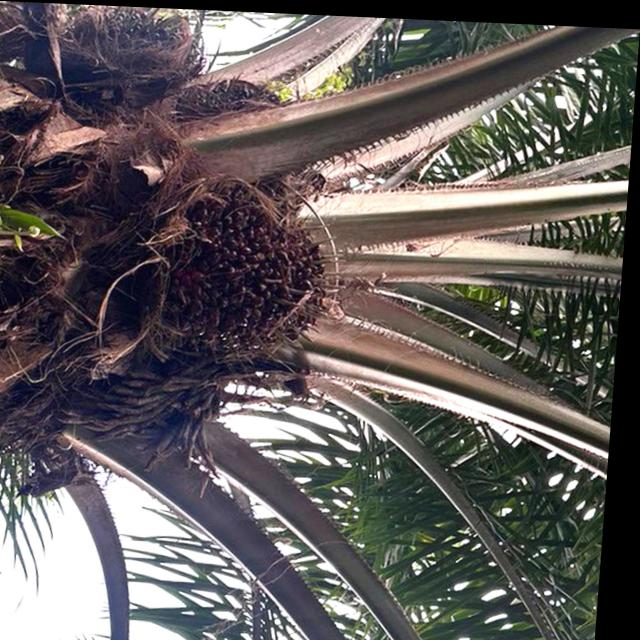ripe: (151, 153, 366, 391)
